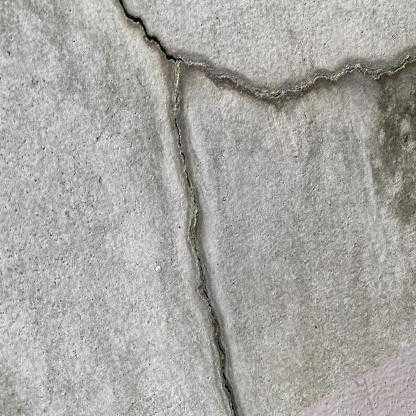crack: (118, 1, 416, 415)
